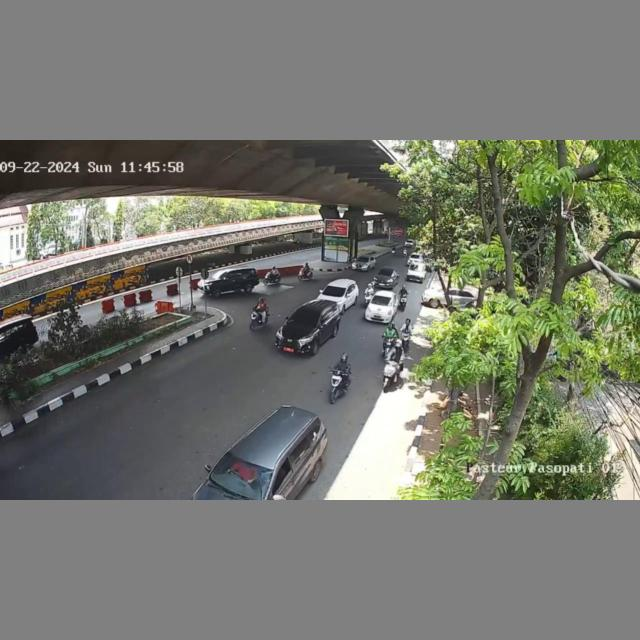windshield: (207, 451, 276, 499), (287, 308, 321, 328), (370, 294, 393, 309), (322, 284, 348, 297)
